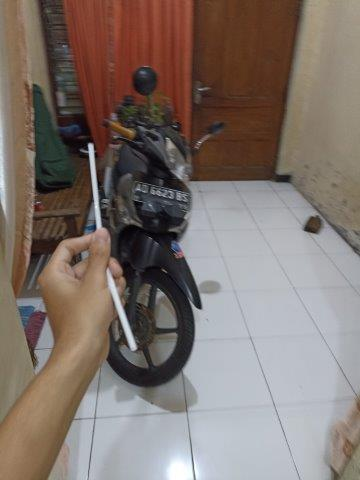sedotan: (87, 144, 135, 348)
